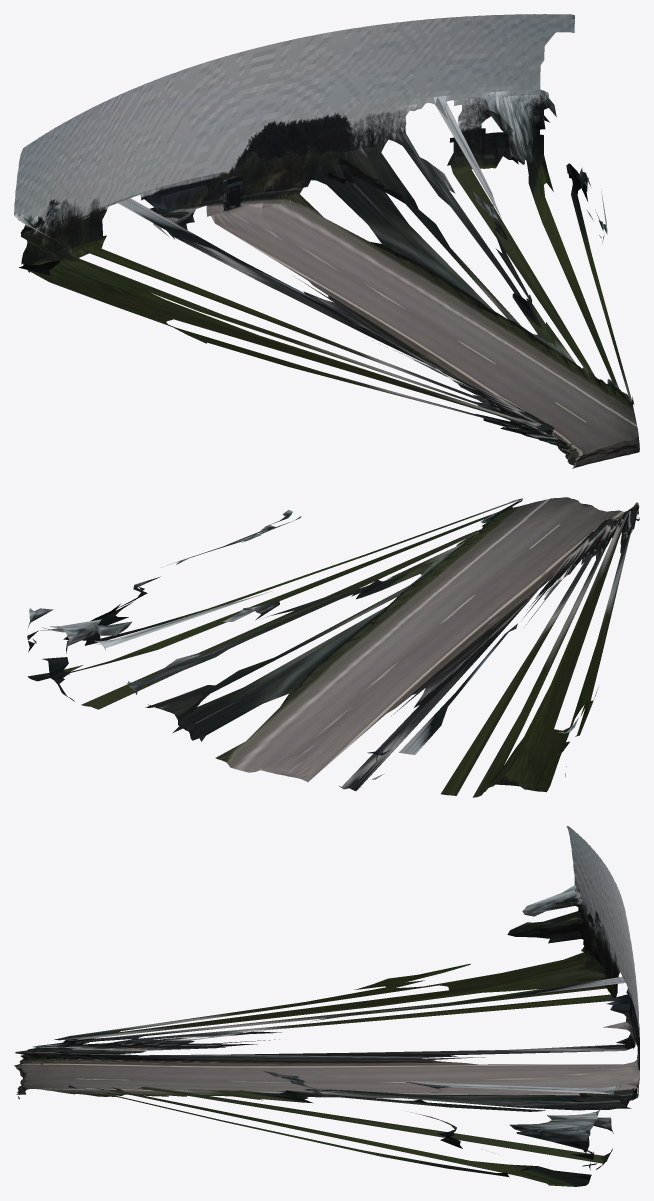
3 renders of one model, top to bottom at view 1: azimuth 30°, elevation 25°; view 2: azimuth 150°, elevation 25°; view 3: azimuth 270°, elevation 25°, orthographic. The views are drawn at different scales.
Visible parts, largest first — view 1: defaultobject; view 2: defaultobject; view 3: defaultobject.
Boxes of the visible parts, box(x1,y1,x2,y2) form: defaultobject: box(14, 14, 639, 468); defaultobject: box(27, 497, 639, 797); defaultobject: box(14, 826, 639, 1186).
Bounding box in the file's own units: 40.88 × 11.74 × 44.41.
1 material, 1 textured.
